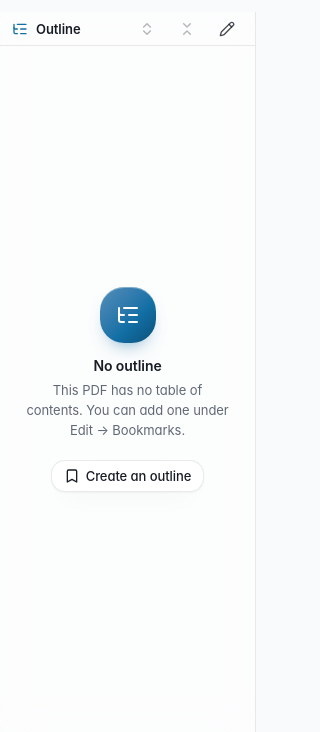
Test case: OutlinePanel editing › deletes a parent with its whole branch on Delete
Click the button named "Edit bookmarks" at (227,28), box [211,12,243,44]
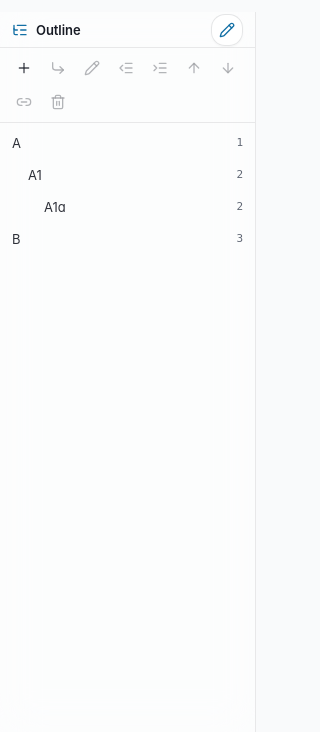
Focus the list item "A 1" at (16,143), box [12,135,243,151]
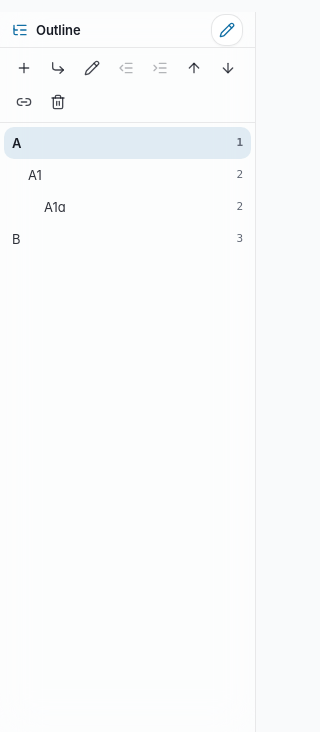
Press Delete in the list item "A 1", box [4,127,251,159]
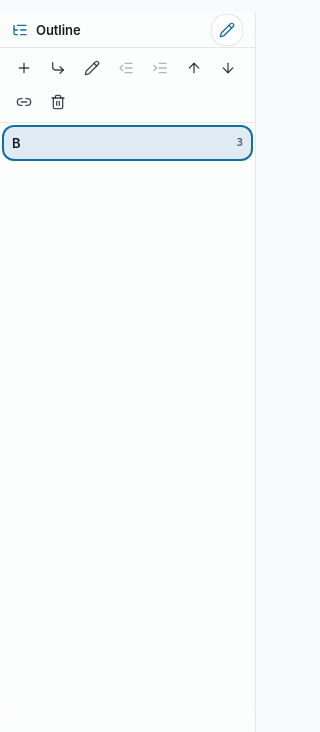
Result: the number of list items is 1 at [4,127,251,159]
